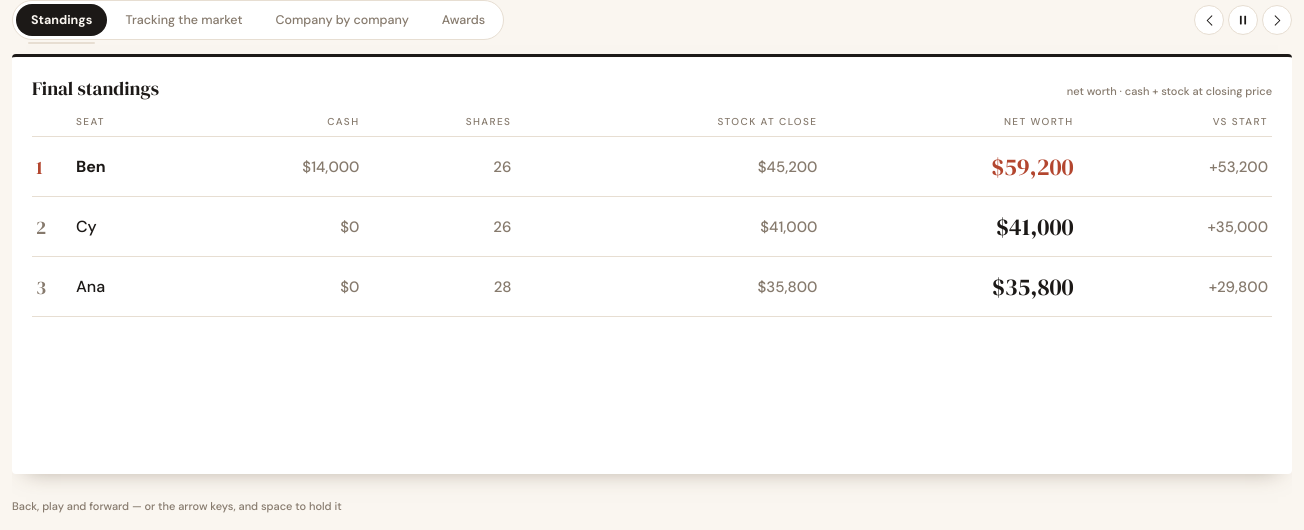
Test: the after-game carousel › pauses, and stays paused — the inner cycle stops with it
What coordinates should you click on to do the following:
click the button named "Pause"
I would click on:
 (1243, 20)
Its box is [1228, 5, 1258, 35].
Wait 60000 ms
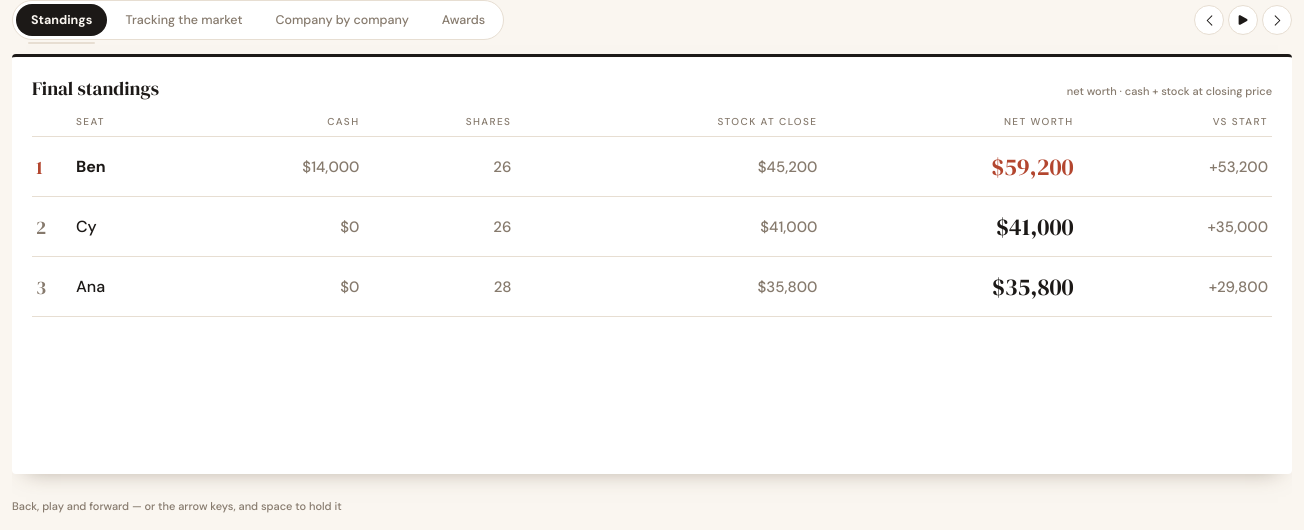
Now the button named "Play" is shown, box [1228, 5, 1258, 35]
